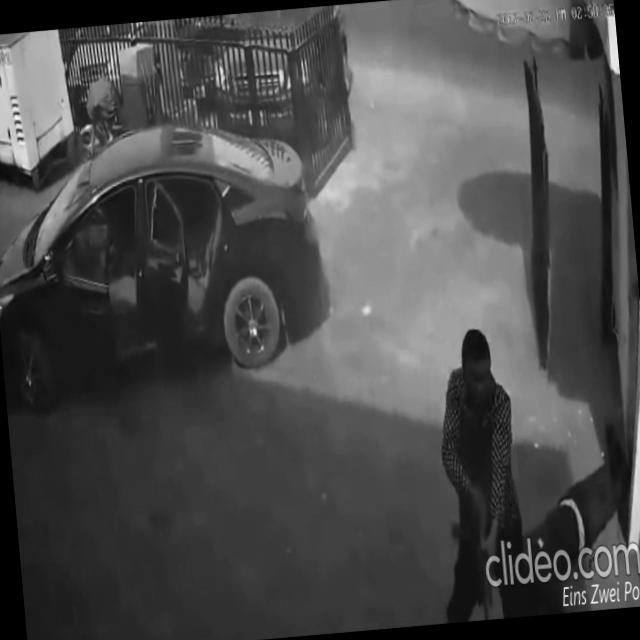gun: (465, 470, 500, 622)
person: (441, 416, 640, 622), (425, 322, 533, 623)
person with a gun: (422, 322, 534, 624)
